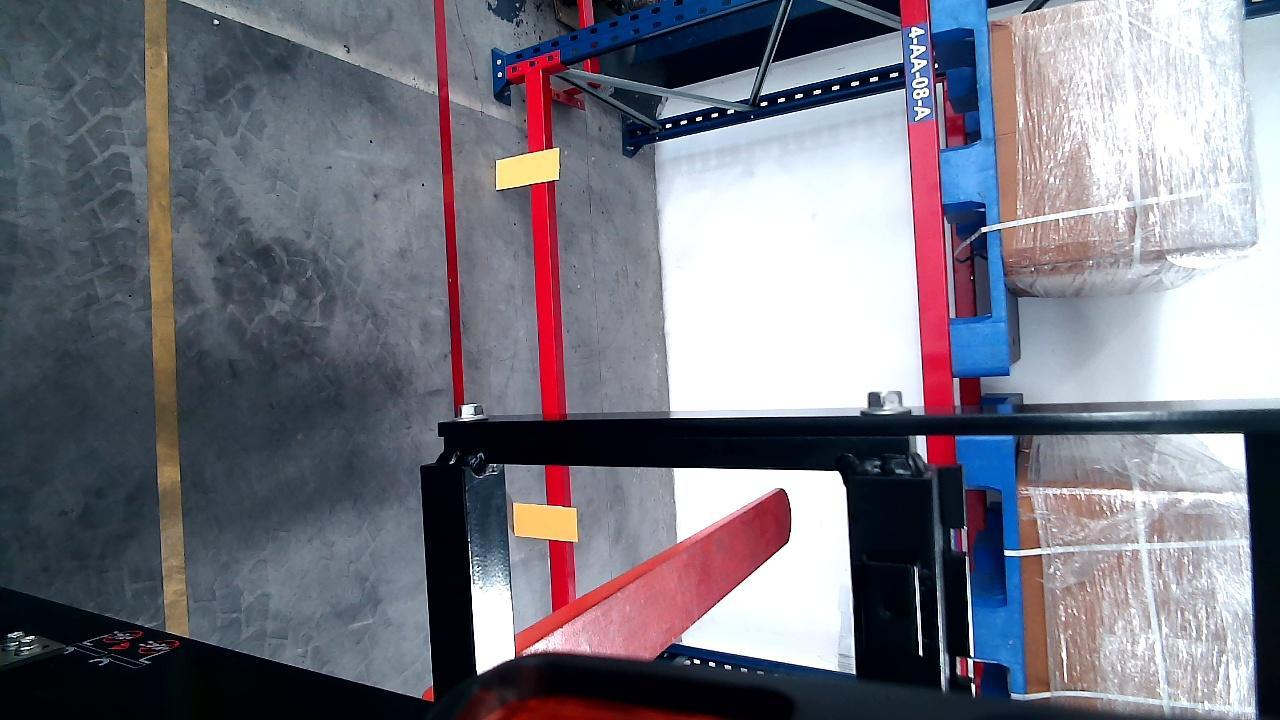red_line: (436, 1, 464, 409)
yellow_line: (146, 0, 185, 635)
